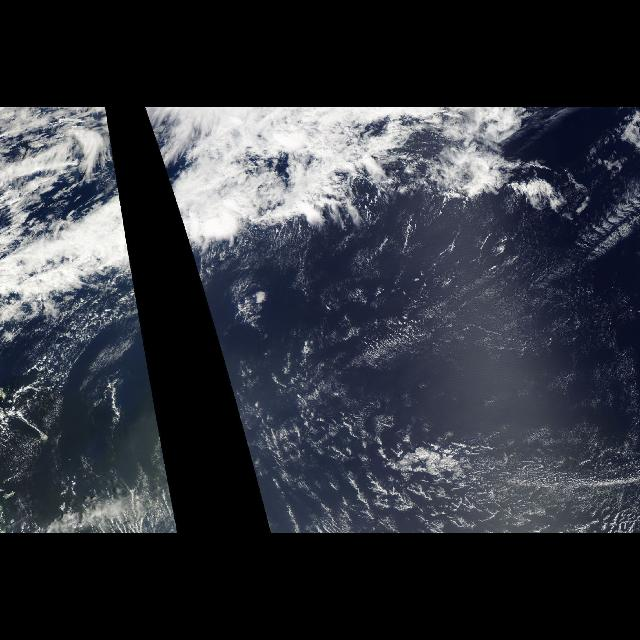Sugar: (250, 161, 640, 534)
